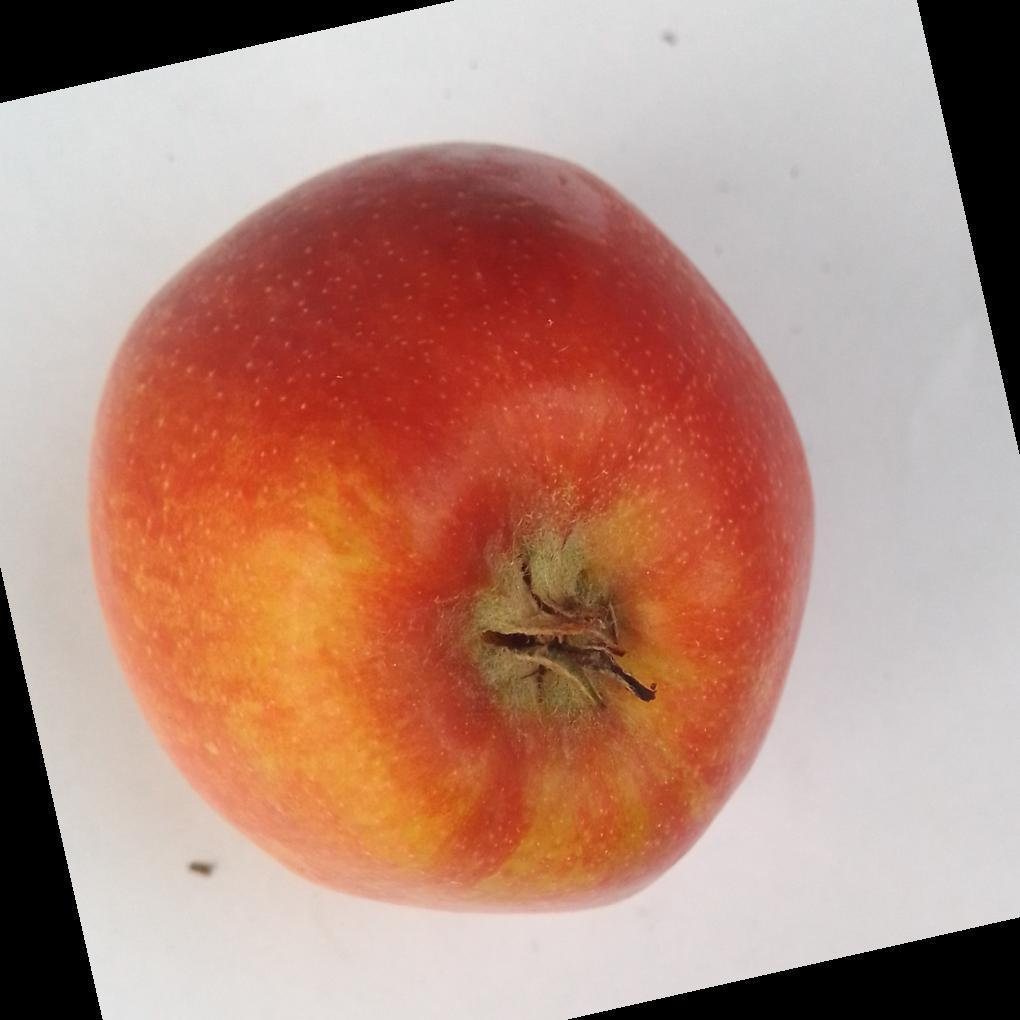FreshGuava: (83, 142, 817, 918)
